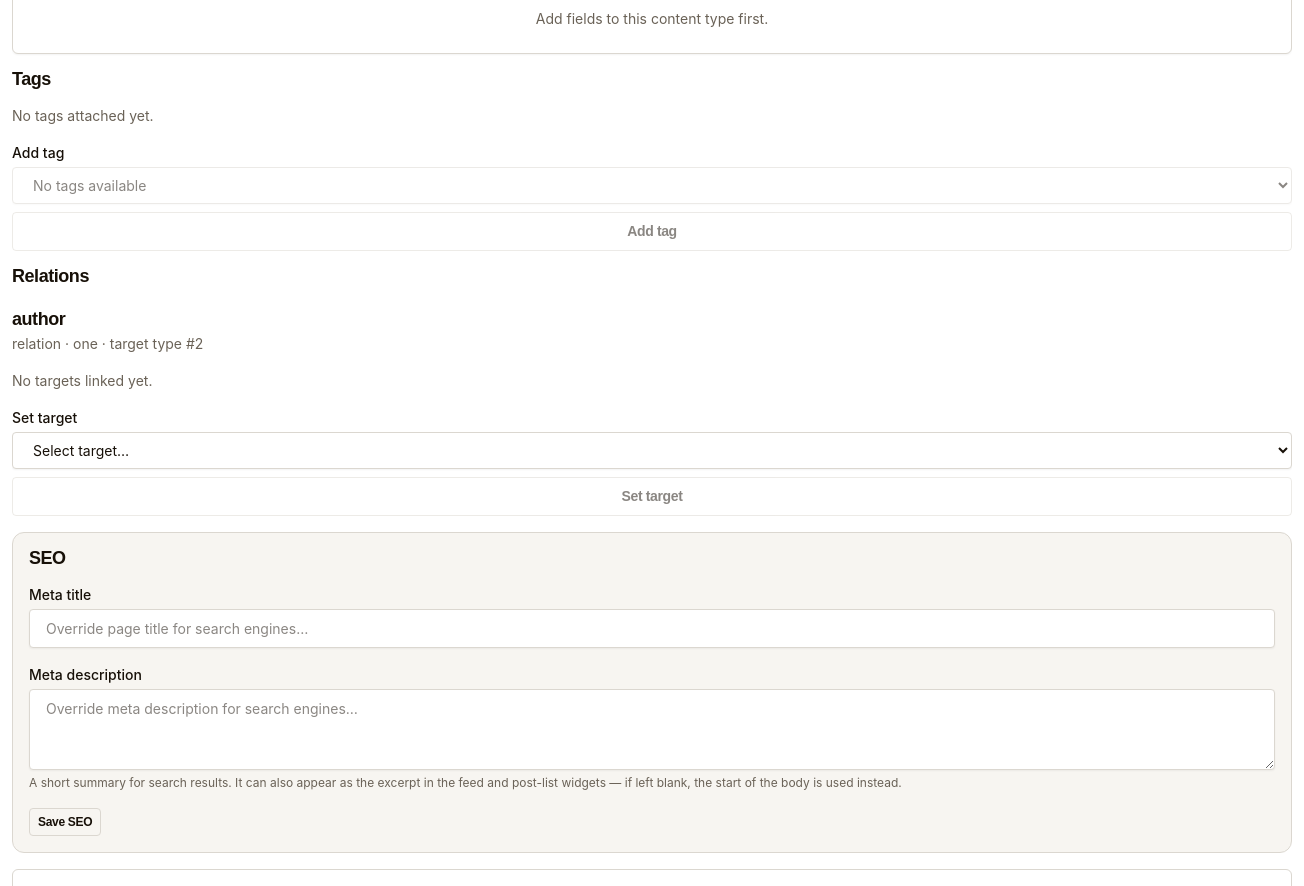
EntityRecordPage › attaches and removes relation targets on the record
(page scrolled)
Expected: the heading "Relations" is shown, 12,266 -> 89,286
Expected: the text "No targets linked yet." is shown, 12,372 -> 152,389
Select "Alice" in the dropdown labelled "Set target" at x=652, y=450, box 12,432 -> 1292,469
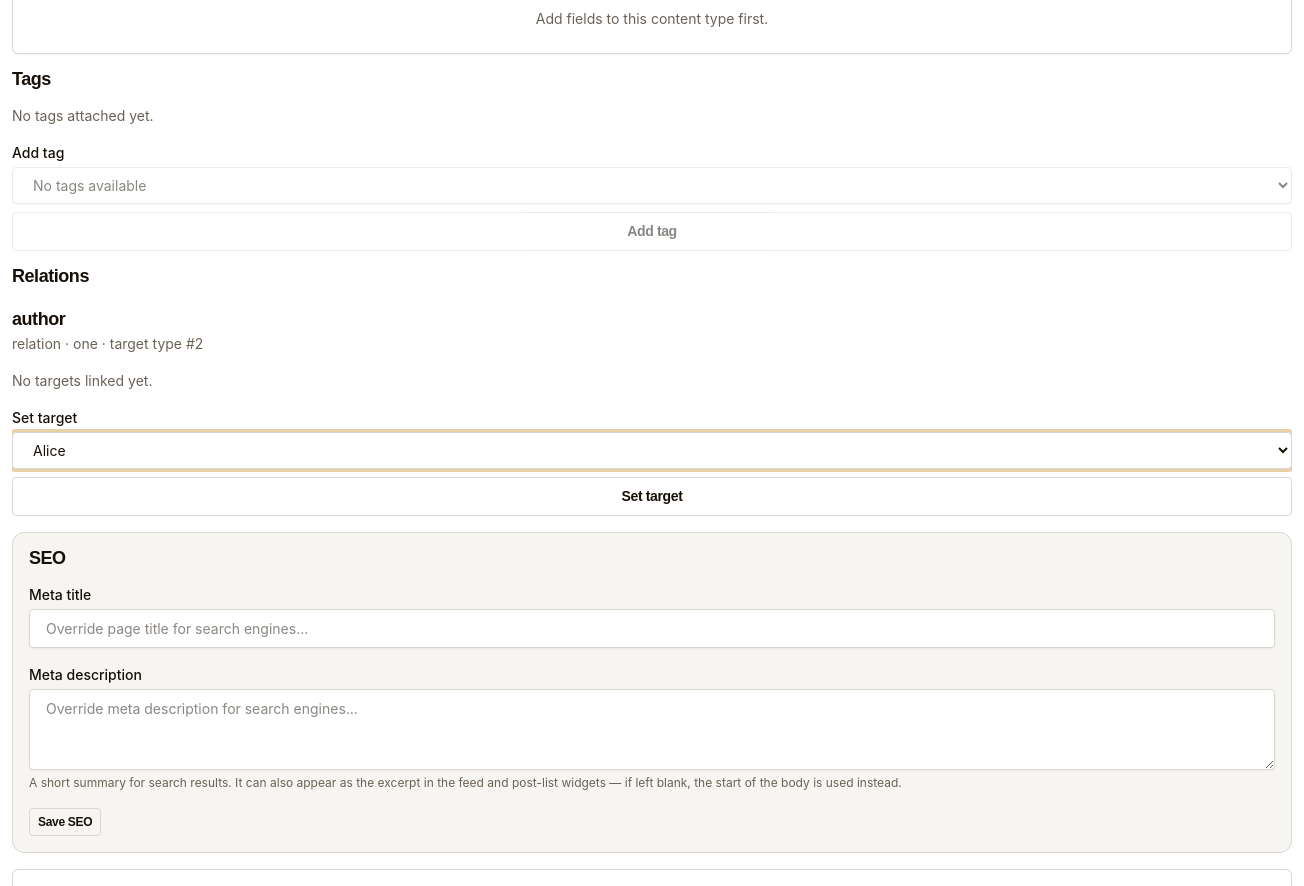
Click the button "Set target" at x=652, y=496, box 12,477 -> 1292,516
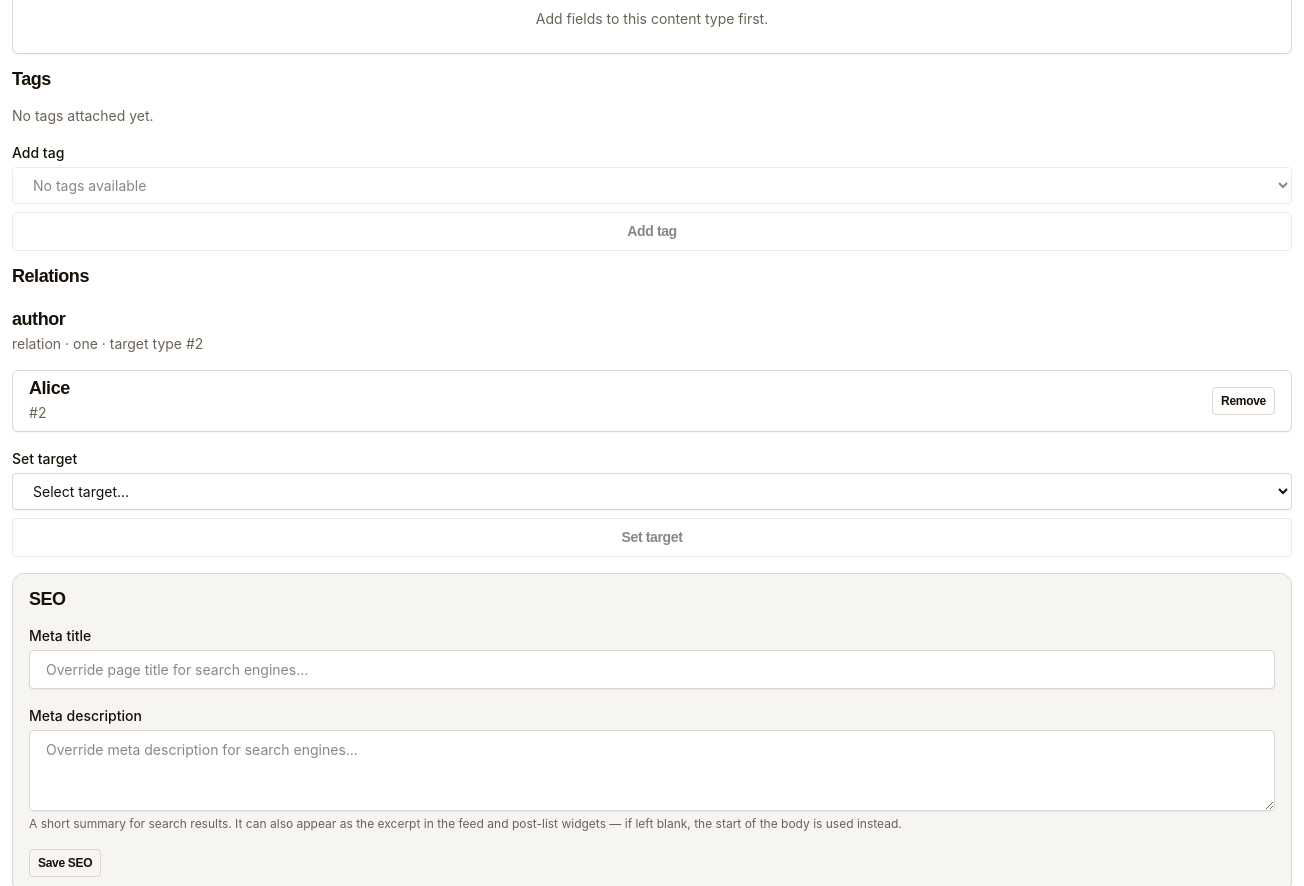
Expected: the text "Alice" is shown, 29,379 -> 70,398
Expected: the text "#2" is shown, 29,404 -> 46,421
Click the button "Remove" at x=1244, y=401, box 1212,387 -> 1275,415
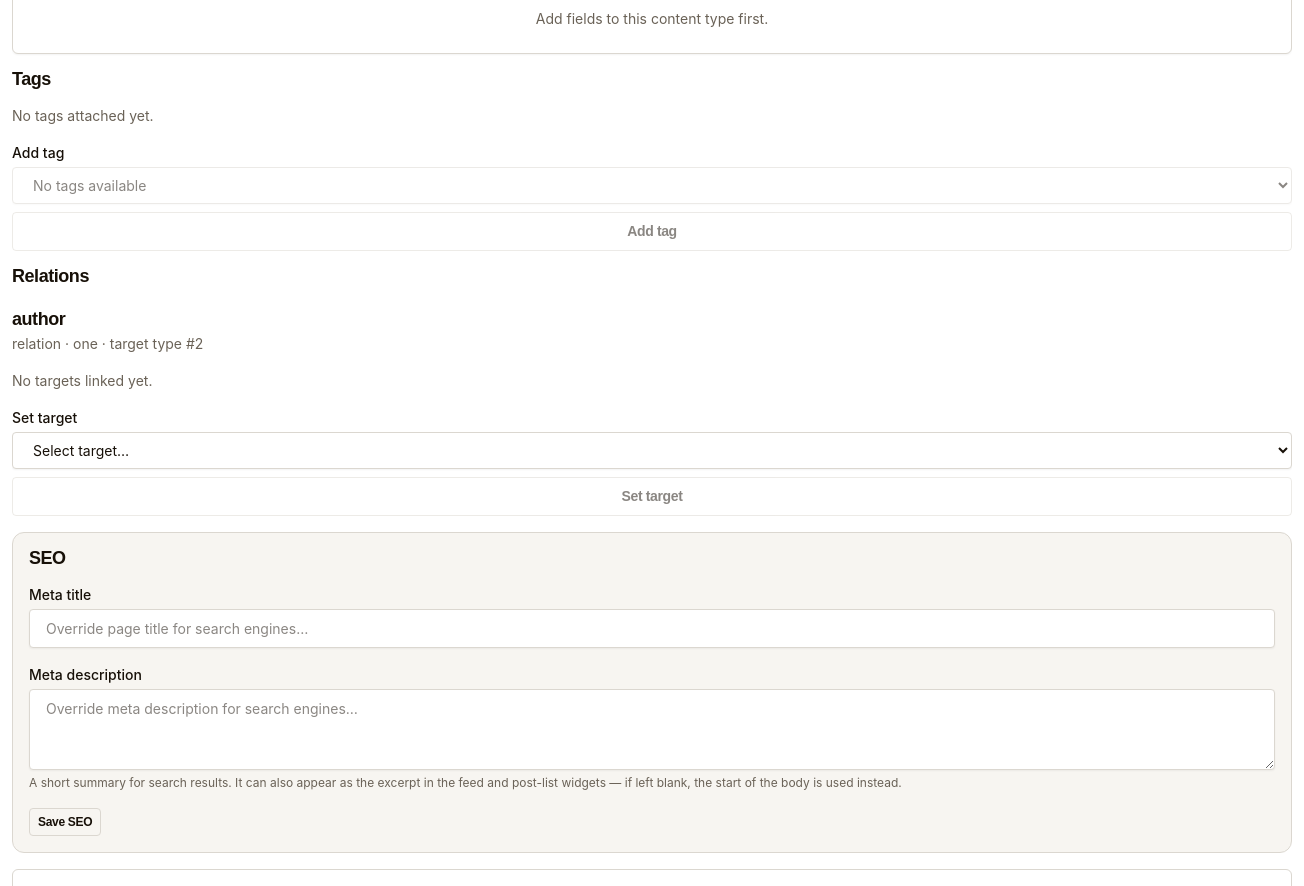
Expected: the button "Remove" is gone
Expected: the text "No targets linked yet." is shown, 12,372 -> 152,389
